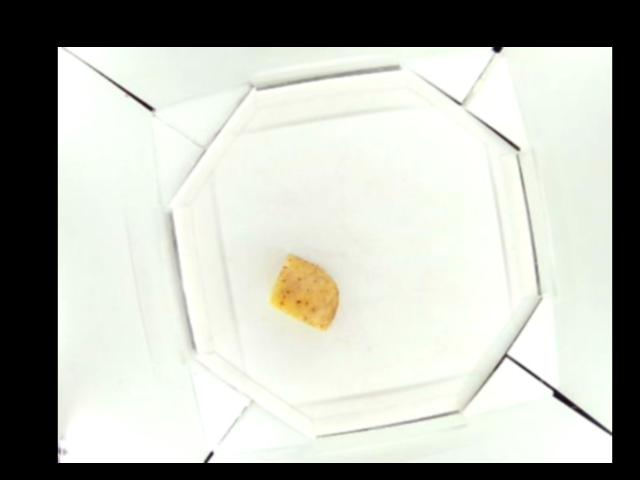Potato: (270, 254, 337, 328)
